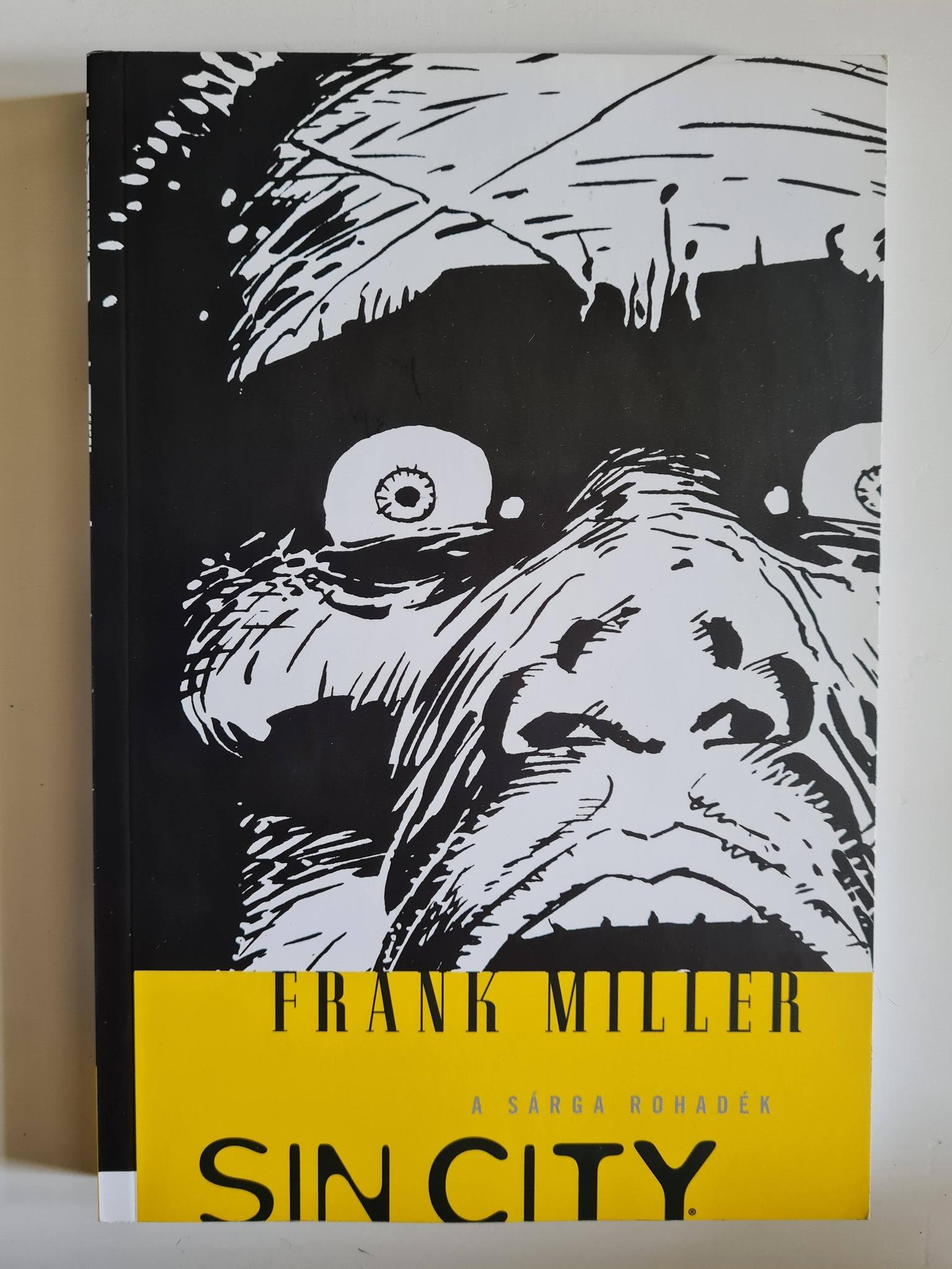comic: (86, 53, 884, 1222)
